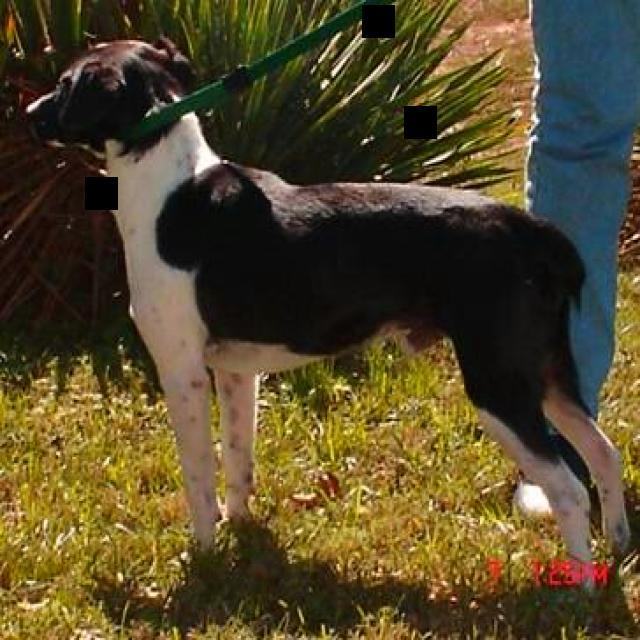adult_dog: (16, 29, 633, 564)
